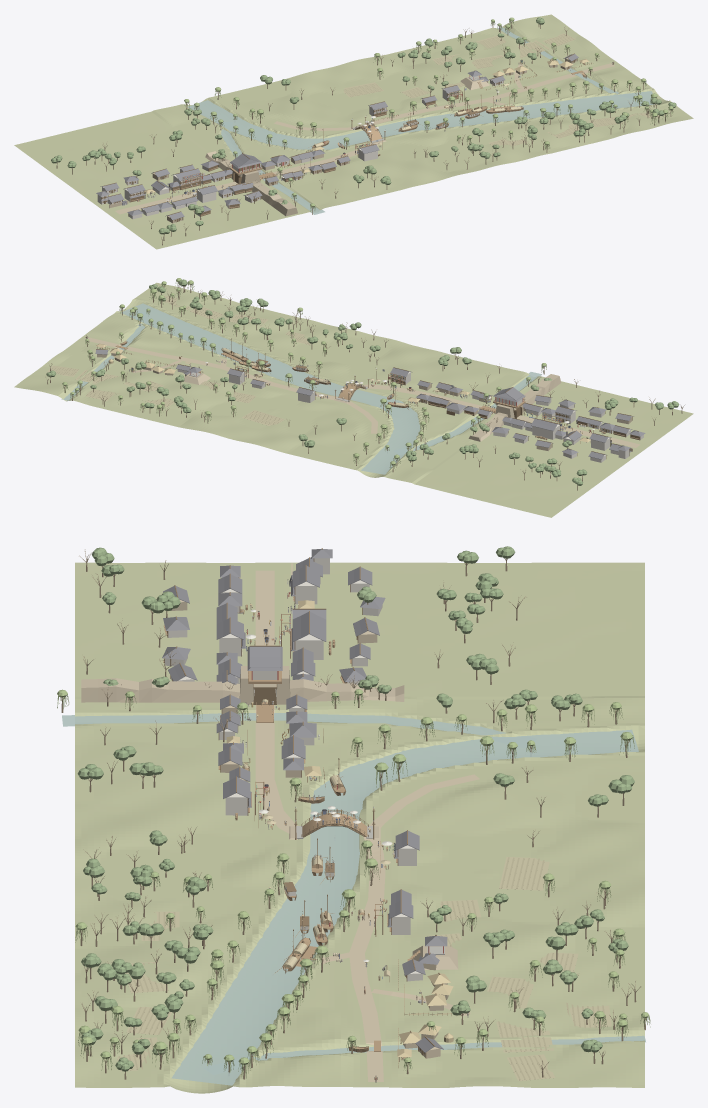
The model's file is qmsht.glb.
3 renders of one model, top to bottom at view 1: azimuth 30°, elevation 25°; view 2: azimuth 150°, elevation 25°; view 3: azimuth 270°, elevation 25°, orthographic. The views are drawn at different scales.
Parts seen in each view (by area): view 1: terrain, static, foliage, water, roads; view 2: terrain, static, foliage, water, roads; view 3: terrain, static, foliage, water, roads.
Part boxes in pixels (<box>): terrain: <box>14,14,693,249</box>; static: <box>56,21,672,245</box>; foliage: <box>51,17,676,234</box>; water: <box>187,27,656,214</box>; roads: <box>115,63,614,214</box>; terrain: <box>14,282,693,517</box>; static: <box>47,282,684,490</box>; foliage: <box>46,278,678,485</box>; water: <box>61,303,541,474</box>; roads: <box>87,337,639,447</box>; terrain: <box>75,562,644,1093</box>; static: <box>61,548,645,1080</box>; foliage: <box>57,546,650,1078</box>; water: <box>62,713,645,1085</box>; roads: <box>255,570,479,1081</box>.
Size of the model in its own units: 392 by 20.65 by 188.
